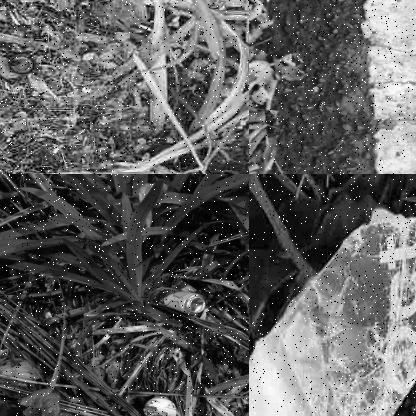metal: (148, 276, 212, 316), (137, 393, 191, 415)
plastic: (249, 203, 415, 415), (10, 54, 34, 76)
